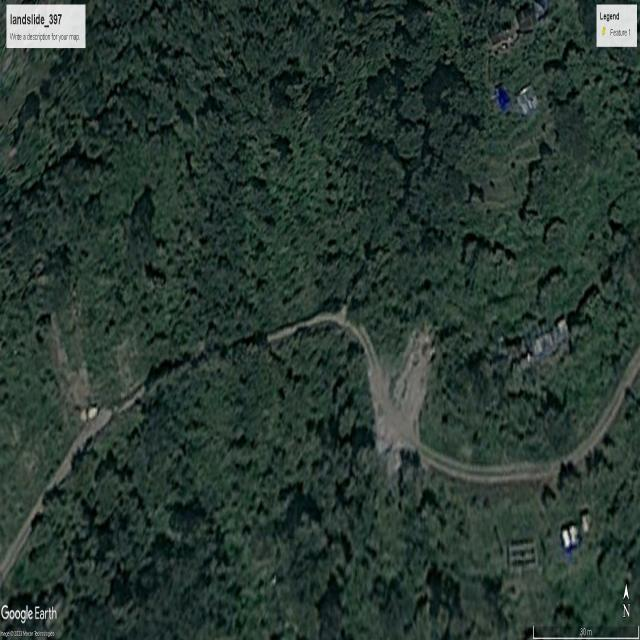Landslide: (394, 322, 436, 430)
